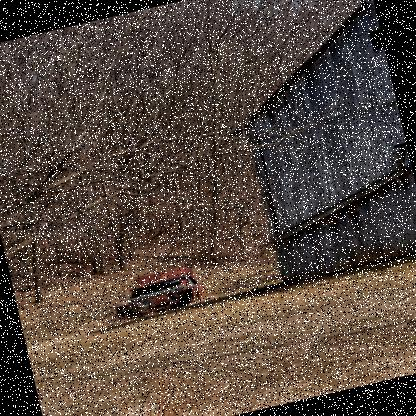Car: (110, 263, 209, 320)
